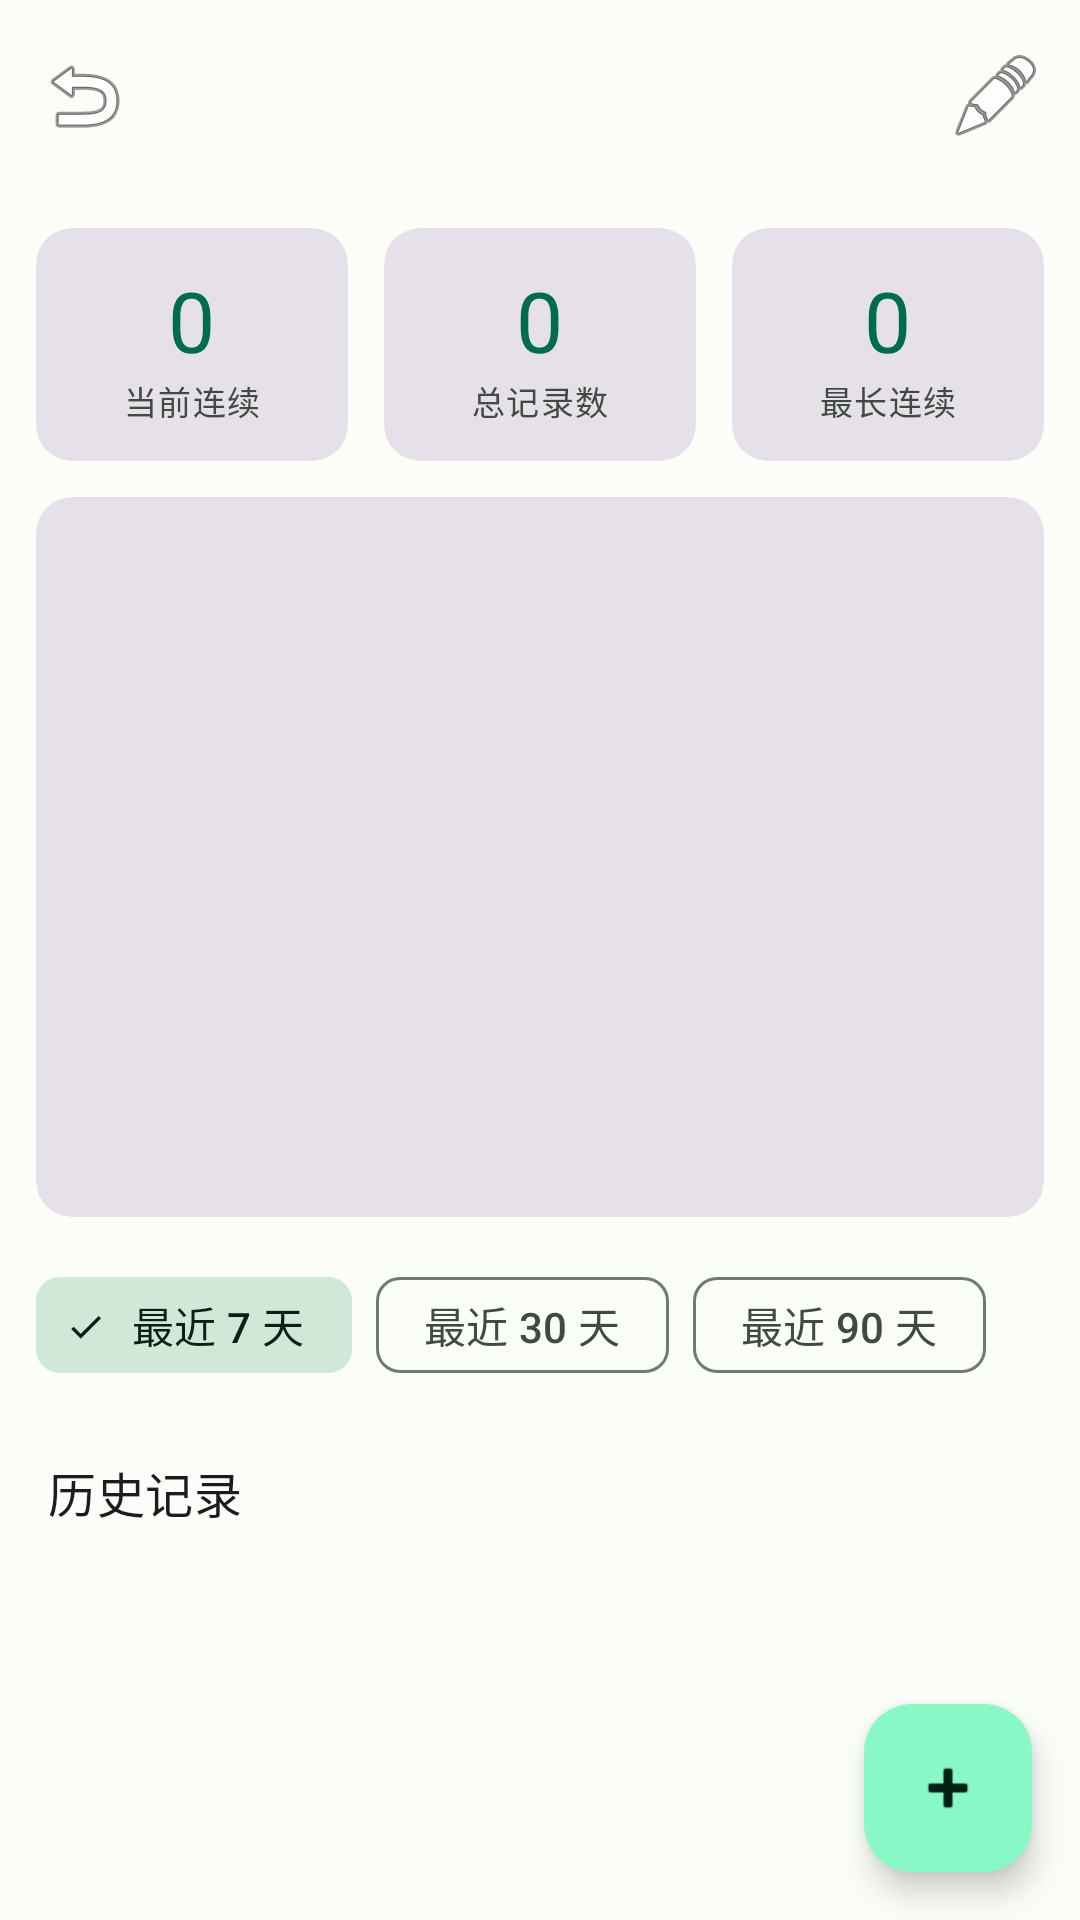

Named icons in this screenshot (1080*1920) and their bounding boxes, (x1, y1, x2, y2):
添加记录: (864, 1704, 1032, 1872)
